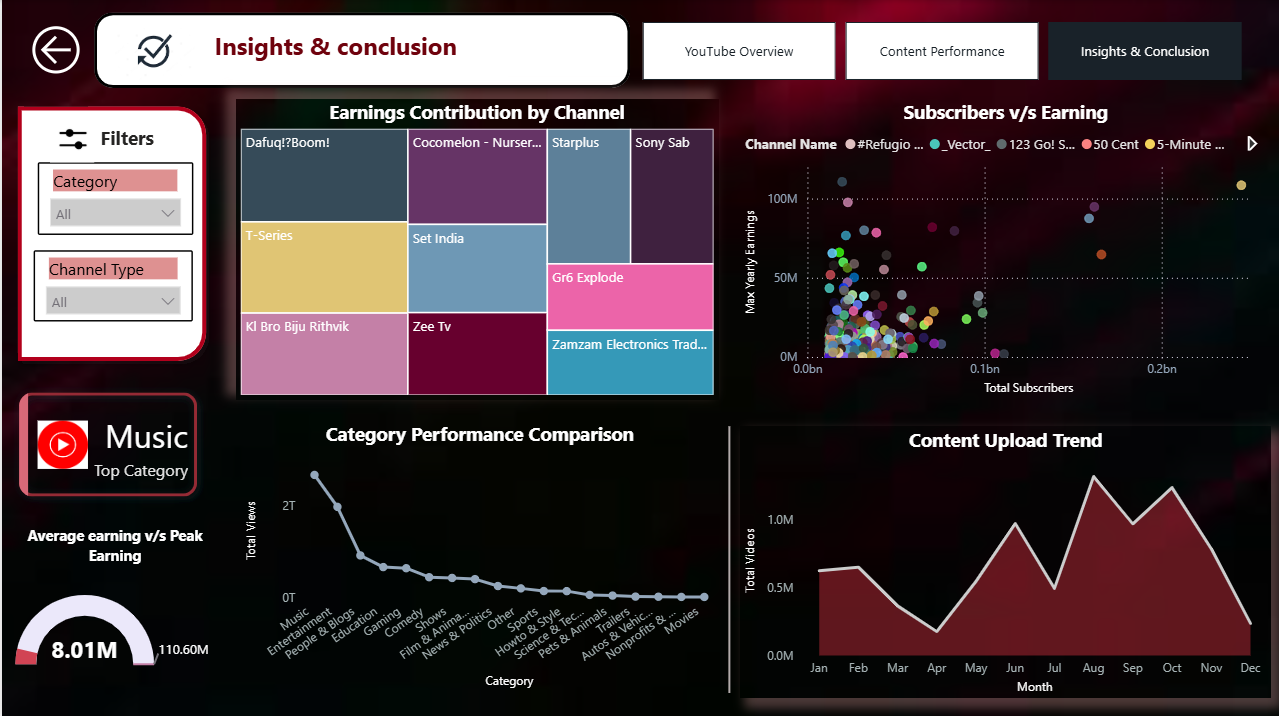

The page's visual inventory and layout, read from the dashboard file:
{"tool":"powerbi","page":{"name":"Insights & Conclusion","canvas":[1280,720],"ordinal":2},"visuals":[{"type":"shape","box":[6.4,98.3,206.3,272.4],"z":0},{"type":"shape","box":[92.1,12.4,536.4,75.6],"z":1000},{"type":"image","box":[48.6,115.3,45.4,46.8],"z":1000,"group":"g2"},{"type":"treemap","title":"Earnings Contribution by Channel","fields":{"Group":["Global YouTube Statistics.Channel Name"],"Values":["Sum(Global YouTube Statistics.Max Yearly Earnings)"]},"box":[233.8,99,482.7,301.2],"z":2000},{"type":"lineChart","title":"Category Performance Comparison","fields":{"Category":["Global YouTube Statistics.Category"],"Y":["Sum(Global YouTube Statistics.Total Views)"]},"box":[239.3,420.8,477.2,272.3],"z":3000},{"type":"cardVisual","fields":{"Data":["Global YouTube Statistics.Top Category"]},"box":[0,375.5,212.7,138.6],"z":4000},{"type":"slicer","fields":{"Values":["Global YouTube Statistics.Channel Type"]},"box":[31.6,250.3,159.5,71.5],"z":5000},{"type":"slicer","fields":{"Values":["Global YouTube Statistics.Category"]},"box":[35.8,162.3,155.4,72.9],"z":6000},{"type":"pageNavigator","box":[640.3,22.2,601.4,58.3],"z":7000},{"type":"group","id":"g1","title":"Group 1","box":[48.6,115.3,129.2,47.2],"z":8000},{"type":"scatterChart","title":"Subscribers v/s Earning","fields":{"X":["Sum(Global YouTube Statistics.Subscribers)"],"Y":["Global YouTube Statistics.Max Yearly Earnings"],"Series":["Global YouTube Statistics.Channel Name"]},"box":[738.5,99,530.9,301.2],"z":9000},{"type":"image","box":[105.9,23.4,93.5,61.9],"z":10000},{"type":"textbox","box":[207.7,23.4,298.4,53.6],"z":11000},{"type":"group","id":"g2","title":"Group 2","box":[48.6,115.3,44.4,47.2],"z":11000,"group":"g1"},{"type":"textbox","box":[94.4,119.5,83.3,37.5],"z":12000,"group":"g1"},{"type":"areaChart","title":"Content Upload Trend","fields":{"Category":["Global YouTube Statistics.Month"],"Y":["Sum(Global YouTube Statistics.Total Videos)"]},"box":[738.5,426.3,530.9,272.3],"z":12000},{"type":"shape","box":[716.5,426.3,22,266.8],"z":13000},{"type":"actionButton","box":[35.5,420.7,50,48.4],"z":14000},{"type":"gauge","title":" Average earning v/s Peak Earning","fields":{"MinValue":["Global YouTube Statistics.Min"],"Y":["Global YouTube Statistics.Avg Yearly Earnings"],"MaxValue":["Max(Global YouTube Statistics.Max Yearly Earnings)"],"TargetValue":["Max(Global YouTube Statistics.Max Yearly Earnings)"]},"box":[8.1,525.4,209.5,169.2],"z":15000},{"type":"actionButton","box":[23.4,19.3,61.9,60.5],"z":17000}]}

Visuals, with their boxes in screenshot pixels (x1, y1, x2, y2), scaled from the page's 1280x720 canvas onto the 1279x716 screenshot:
shape: [left=6, top=98, right=213, bottom=369]
shape: [left=92, top=12, right=628, bottom=88]
image: [left=49, top=115, right=94, bottom=161]
"Earnings Contribution by Channel" treemap: [left=234, top=98, right=716, bottom=398]
"Category Performance Comparison" lineChart: [left=239, top=418, right=716, bottom=689]
cardVisual - Global YouTube Statistics.Top Category: [left=0, top=373, right=213, bottom=511]
slicer - Global YouTube Statistics.Channel Type: [left=32, top=249, right=191, bottom=320]
slicer - Global YouTube Statistics.Category: [left=36, top=161, right=191, bottom=234]
pageNavigator: [left=640, top=22, right=1241, bottom=80]
"Group 1" group: [left=49, top=115, right=178, bottom=162]
"Subscribers v/s Earning" scatterChart: [left=738, top=98, right=1268, bottom=398]
image: [left=106, top=23, right=199, bottom=85]
textbox: [left=208, top=23, right=506, bottom=77]
"Group 2" group: [left=49, top=115, right=93, bottom=162]
textbox: [left=94, top=119, right=178, bottom=156]
"Content Upload Trend" areaChart: [left=738, top=424, right=1268, bottom=695]
shape: [left=716, top=424, right=738, bottom=689]
actionButton: [left=35, top=418, right=85, bottom=466]
" Average earning v/s Peak Earning" gauge: [left=8, top=522, right=217, bottom=691]
actionButton: [left=23, top=19, right=85, bottom=79]
